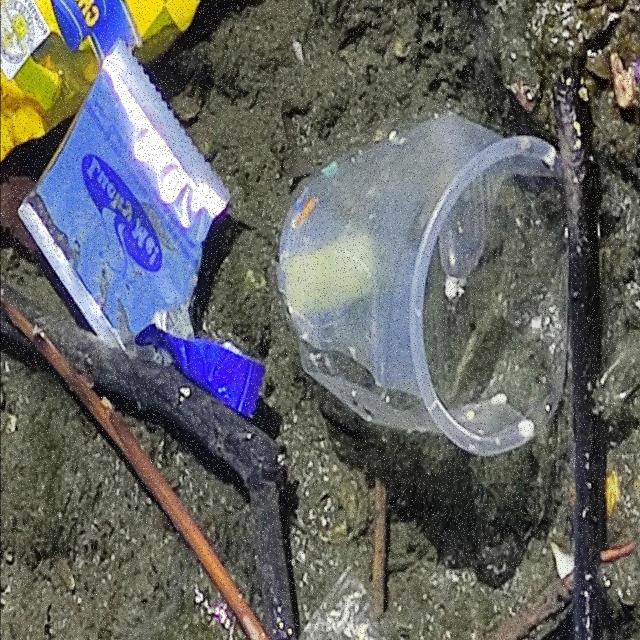plastic_waste: (276, 110, 570, 459), (3, 1, 234, 381)
